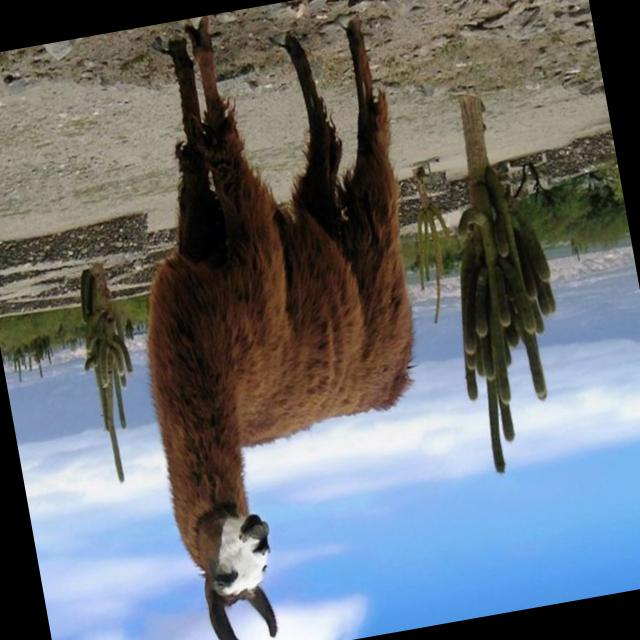alpaca: (89, 0, 477, 640)
